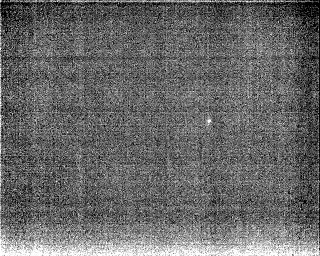BIRD: (205, 116, 214, 127)
